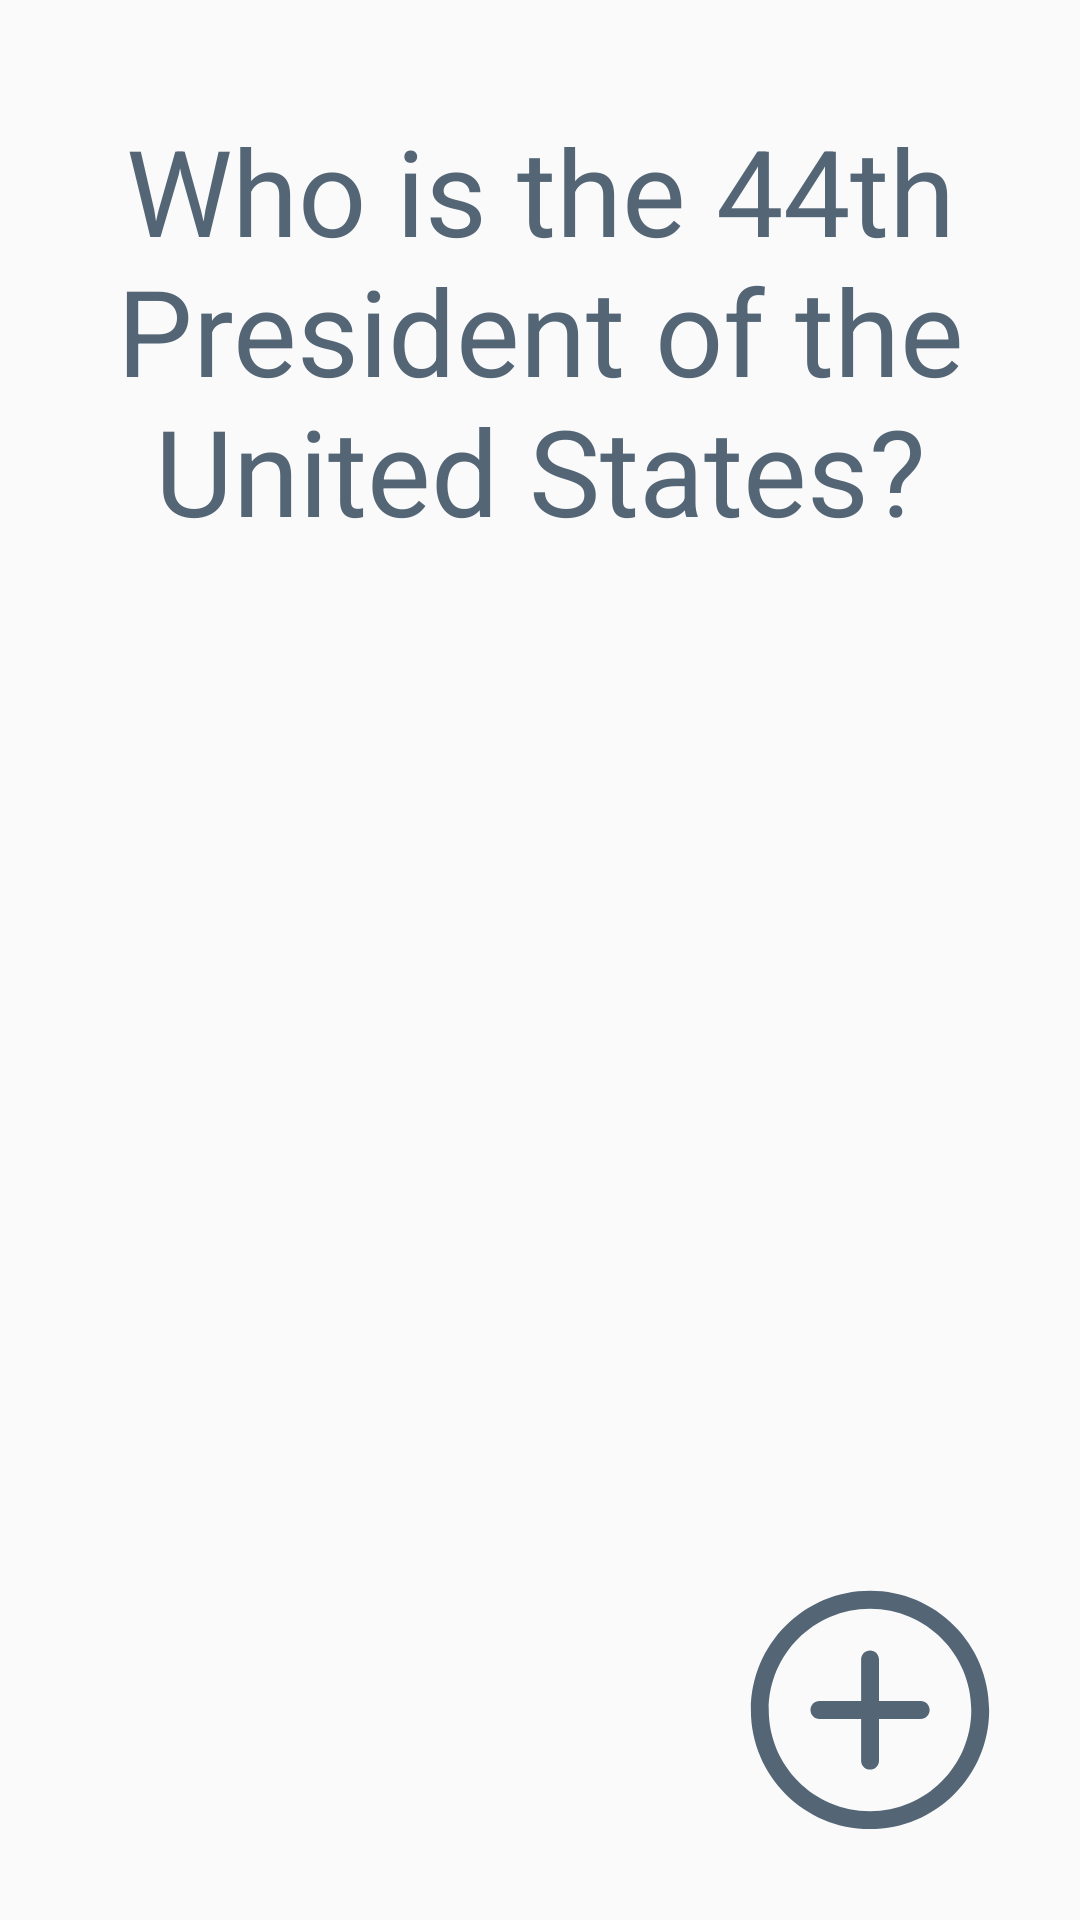

Icons on this 1080*1920 Android screen, each with its box as (x1, y1, x2, y2):
button add: (750, 1590, 990, 1829)
